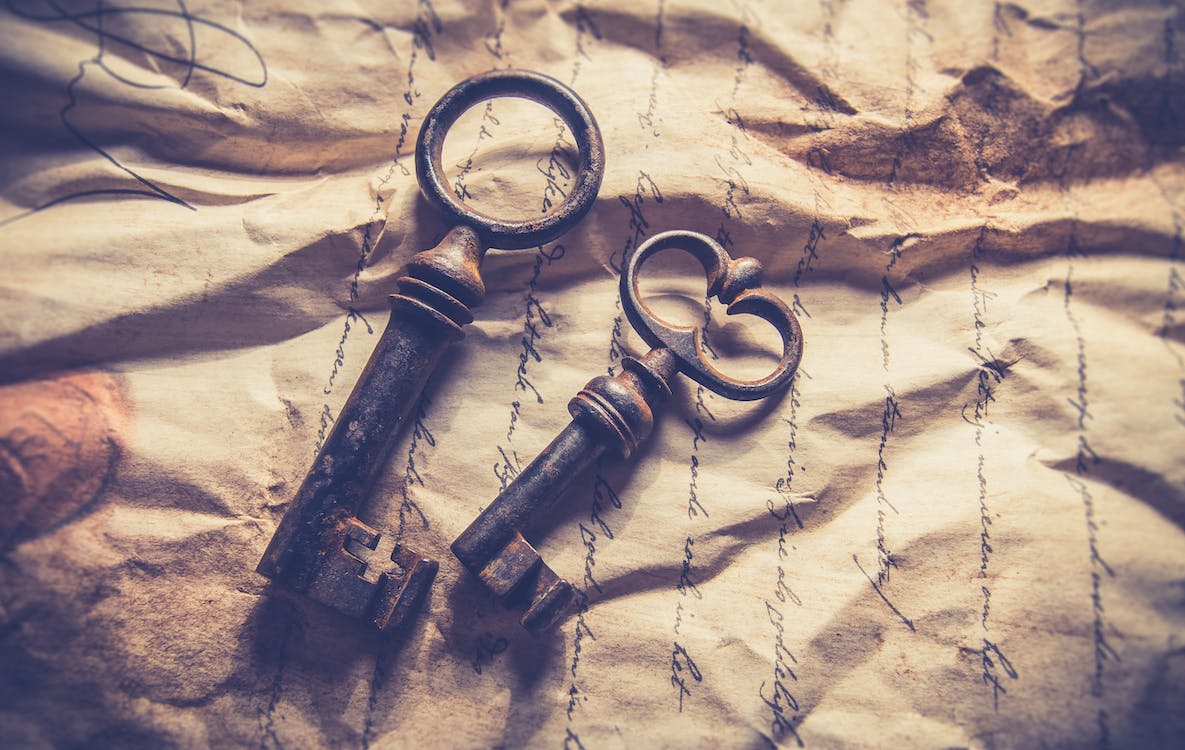key: (250, 69, 602, 644), (450, 226, 806, 642)
